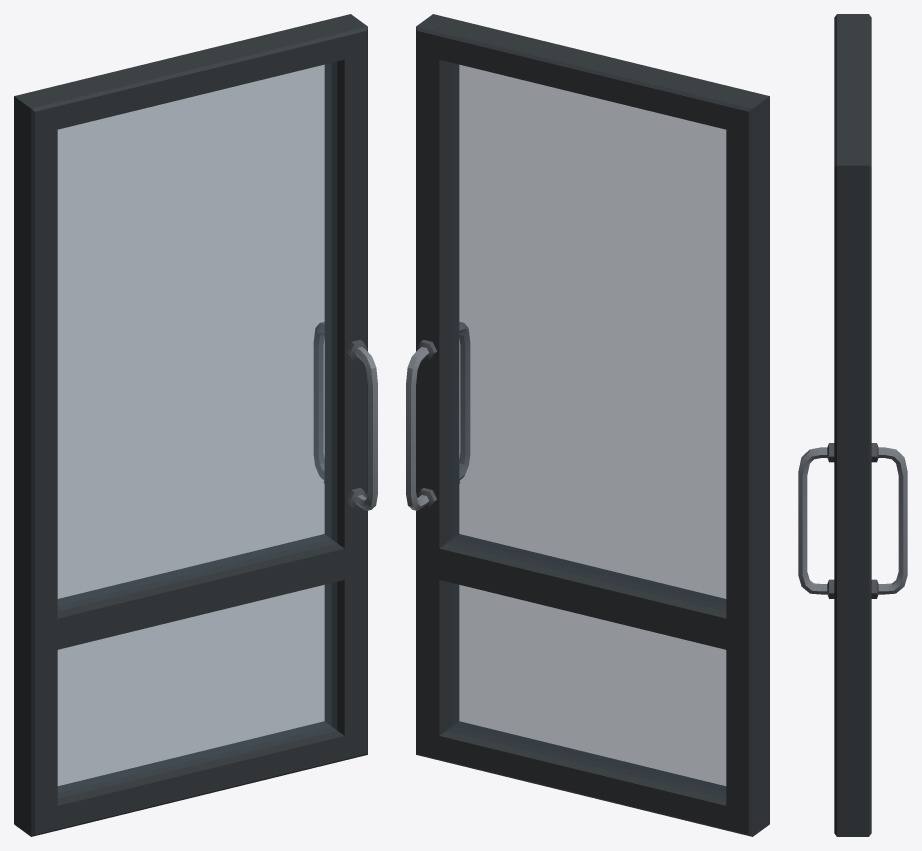
The model's file is SM_Buildings_Skyscraper_03_Door_L.fbx.
3 renders of one model, left to right at view 1: azimuth 30°, elevation 25°; view 2: azimuth 150°, elevation 25°; view 3: azimuth 270°, elevation 25°, orthographic. The views are drawn at different scales.
Parts seen in each view (by area): view 1: SM_Buildings_Skyscraper_03_Door_L; view 2: SM_Buildings_Skyscraper_03_Door_L; view 3: SM_Buildings_Skyscraper_03_Door_L.
Part boxes in pixels (box(x1,y1,x2,y2)): SM_Buildings_Skyscraper_03_Door_L: box(14, 14, 377, 836); SM_Buildings_Skyscraper_03_Door_L: box(406, 14, 769, 836); SM_Buildings_Skyscraper_03_Door_L: box(798, 14, 907, 836).
Size of the model in its own units: 1.36 by 2.8 by 0.4141.
